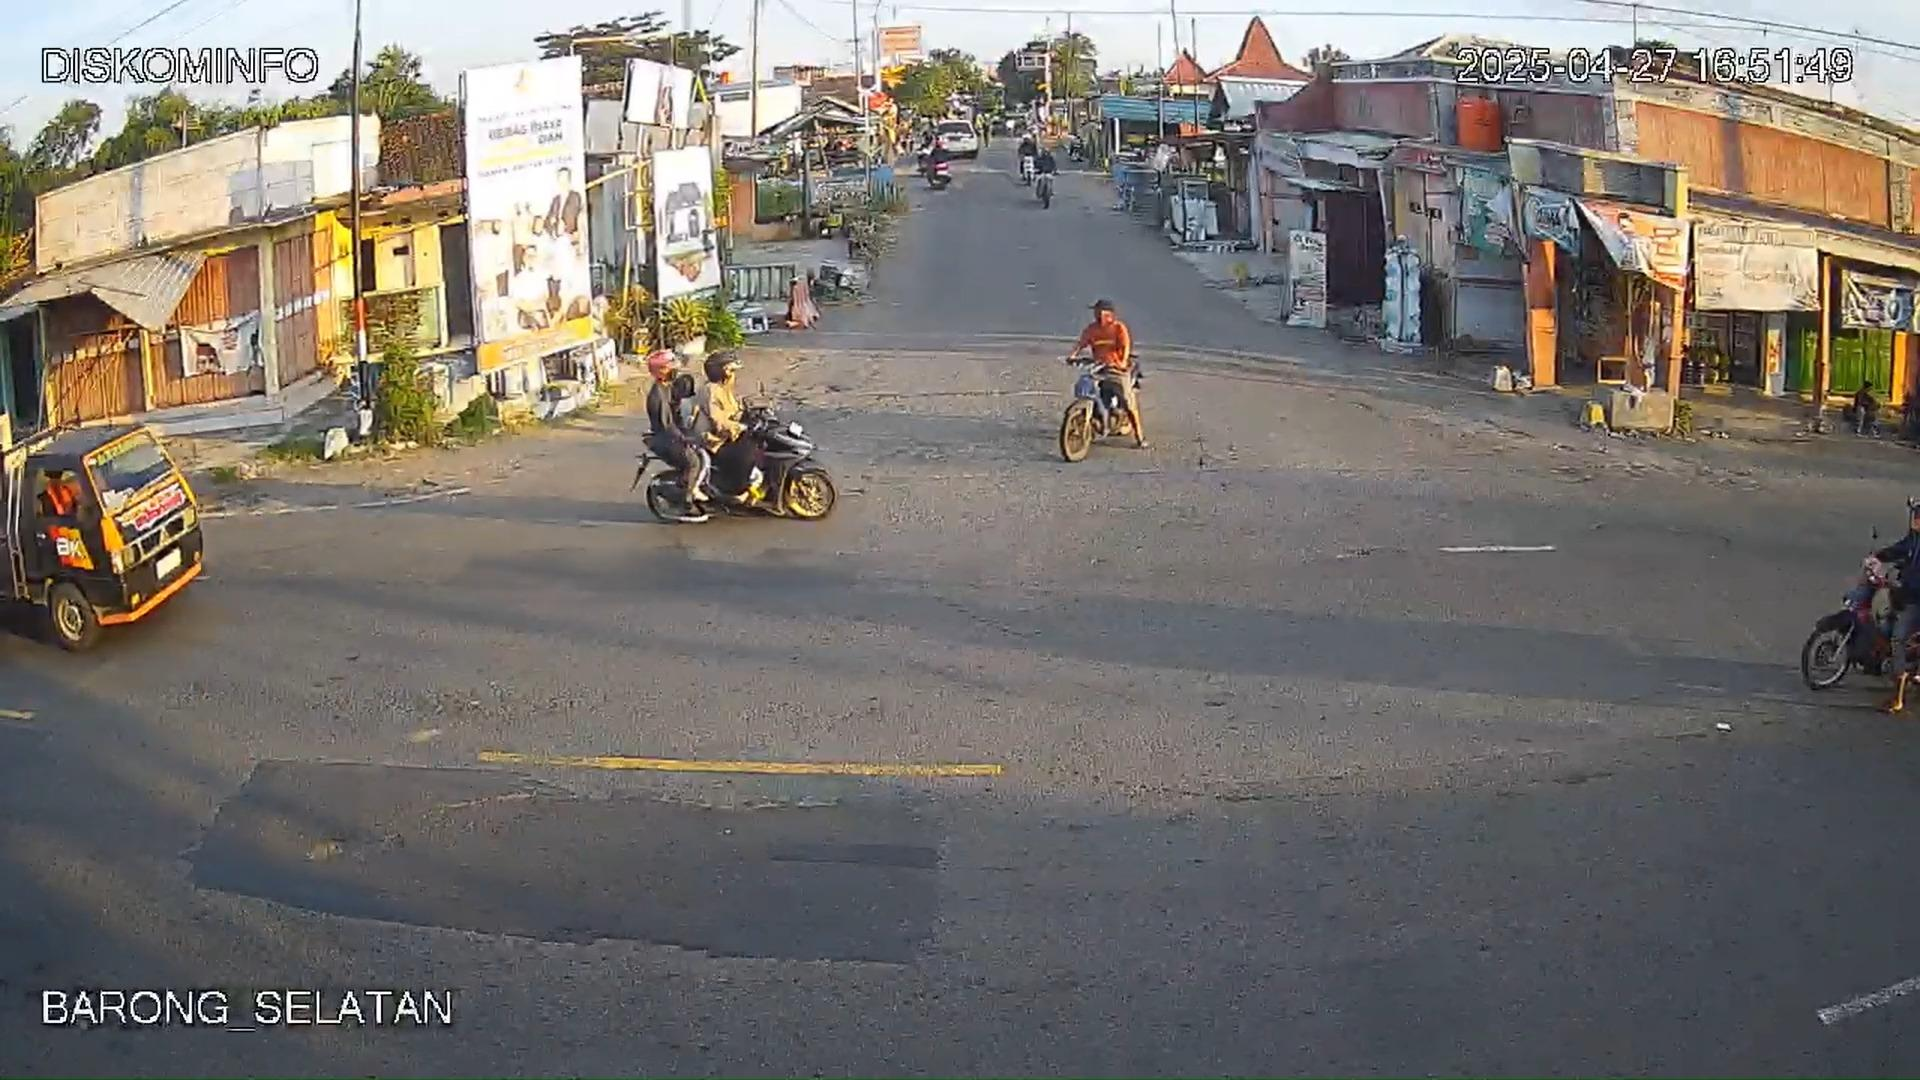Motor: (633, 385, 841, 524), (1800, 547, 1920, 698), (1064, 297, 1134, 439)
mobil: (8, 415, 208, 650)
